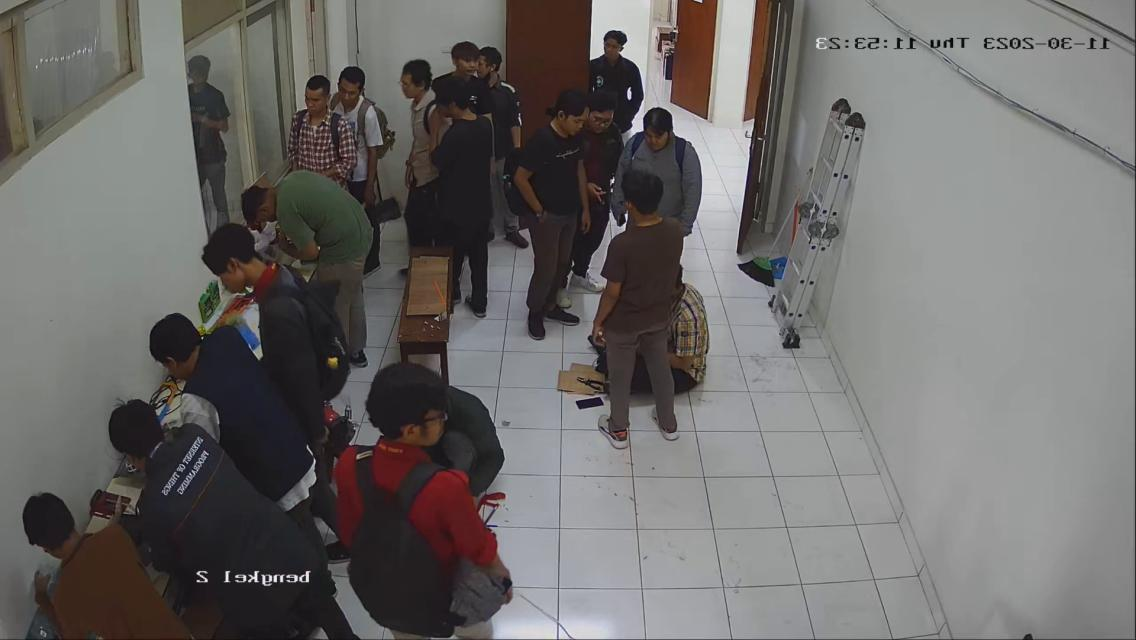Crowd: (0, 151, 392, 640), (256, 15, 673, 342)
